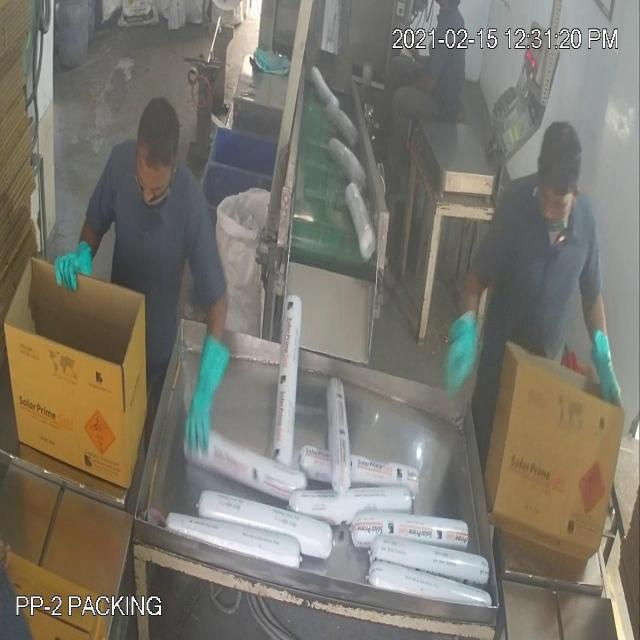Gloves: (43, 70, 606, 391)
